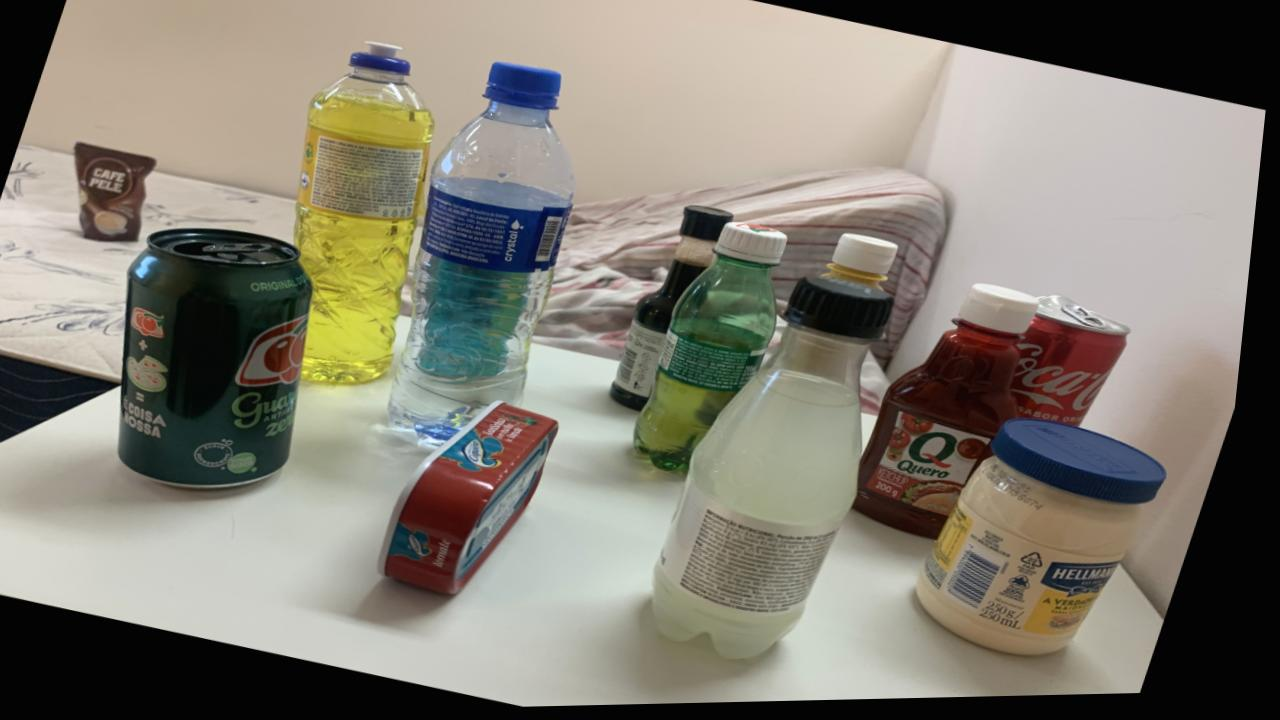Coffee-Pantry_Items: (77, 142, 159, 242)
Coke-Drinks: (1018, 299, 1138, 431)
Detergent-Cleanup_Items: (298, 44, 438, 385)
English_Sauce-Pantry_Items: (619, 208, 738, 412)
Guarana-Drinks: (643, 225, 792, 474)
Guarana_Can-Drinks: (127, 228, 318, 489)
Ketchup-Pantry_Items: (864, 288, 1046, 543)
Mayonnaise-Pantry_Items: (928, 423, 1177, 660)
Mustard-Pantry_Items: (832, 237, 904, 293)
Soda-Drinks: (664, 281, 898, 662)
Tuna_Can-Pantry_Items: (389, 404, 568, 596)
Water_Bottle-Drinks: (397, 65, 580, 446)
